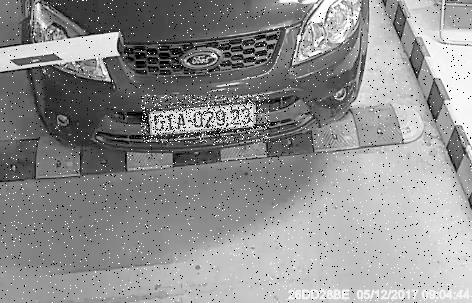License-plate: (143, 96, 272, 144)
